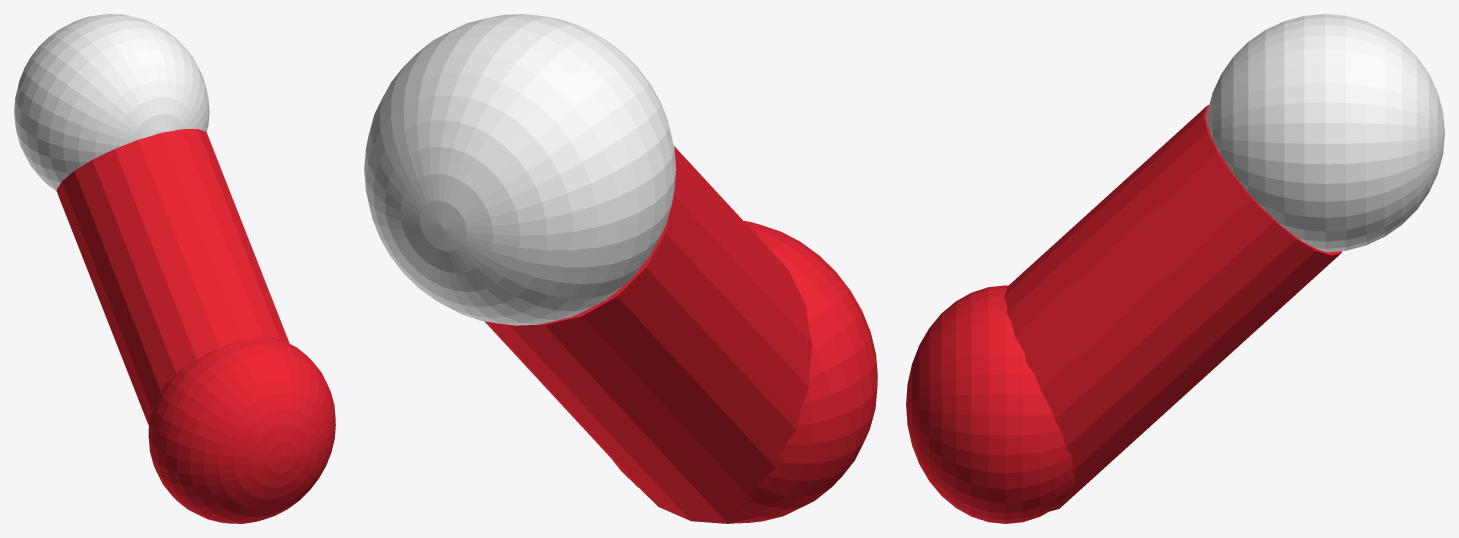
Rendered from tinker.obj.
The picture shows the model from 3 angles, left to right: view 1: azimuth 30°, elevation 25°; view 2: azimuth 150°, elevation 25°; view 3: azimuth 270°, elevation 25°; orthographic projection. The views are drawn at different scales.
Parts seen in each view (by area): view 1: group_0_15277357, group_0_16448250; view 2: group_0_15277357, group_0_16448250; view 3: group_0_15277357, group_0_16448250.
Part boxes in pixels (x1=…): group_0_15277357: x1=56, y1=129, x2=335, y2=523; group_0_16448250: x1=14, y1=14, x2=209, y2=191; group_0_15277357: x1=484, y1=146, x2=877, y2=523; group_0_16448250: x1=364, y1=14, x2=676, y2=325; group_0_15277357: x1=906, y1=105, x2=1342, y2=523; group_0_16448250: x1=1207, y1=14, x2=1444, y2=252.
Size of the model in its own units: 12 by 27 by 27.
